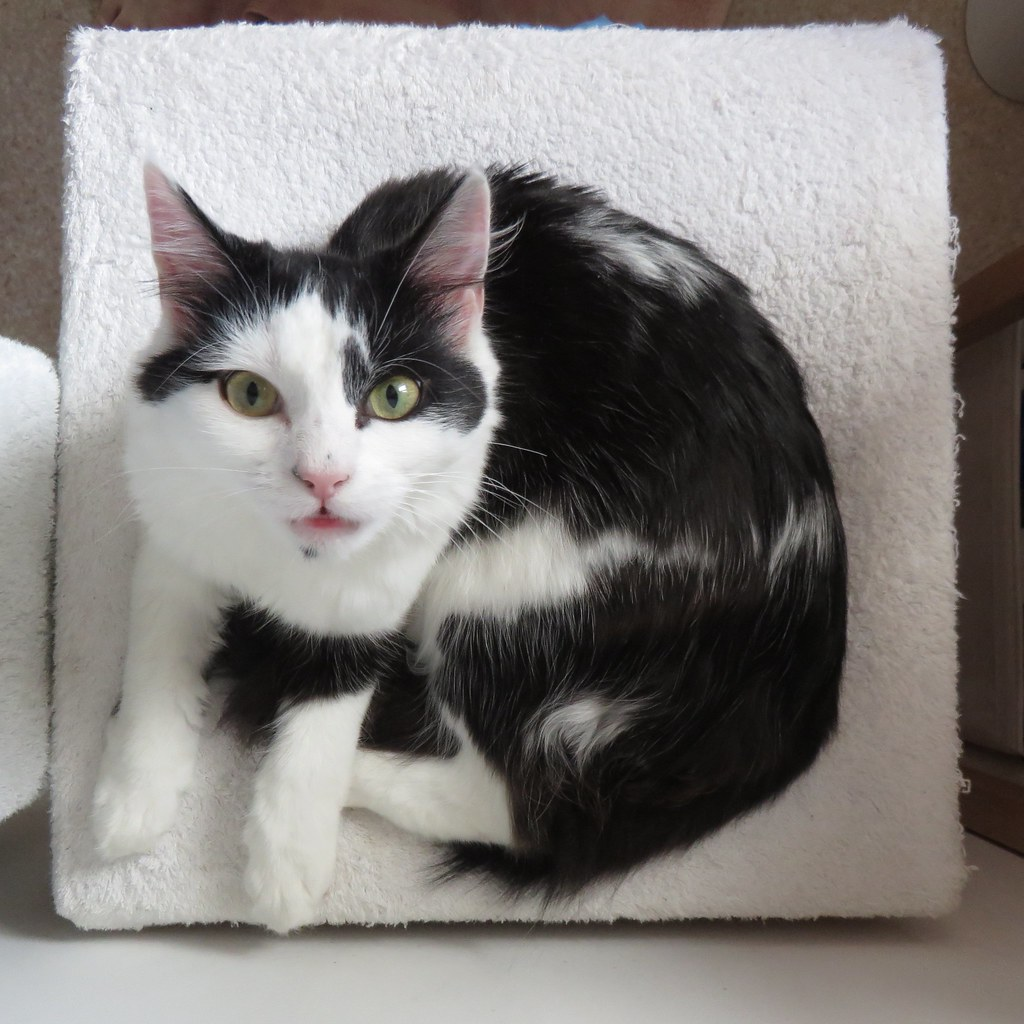cat: (89, 144, 860, 948)
cat-face: (116, 144, 506, 568)
